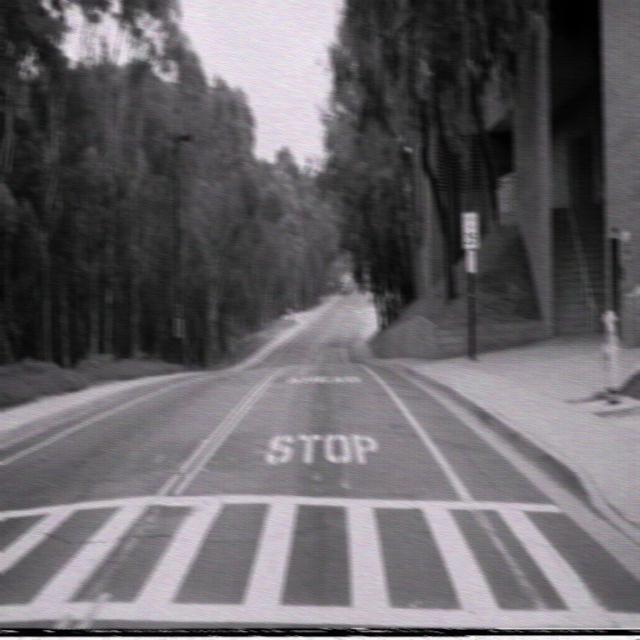speedLimit35: (460, 210, 479, 250)
